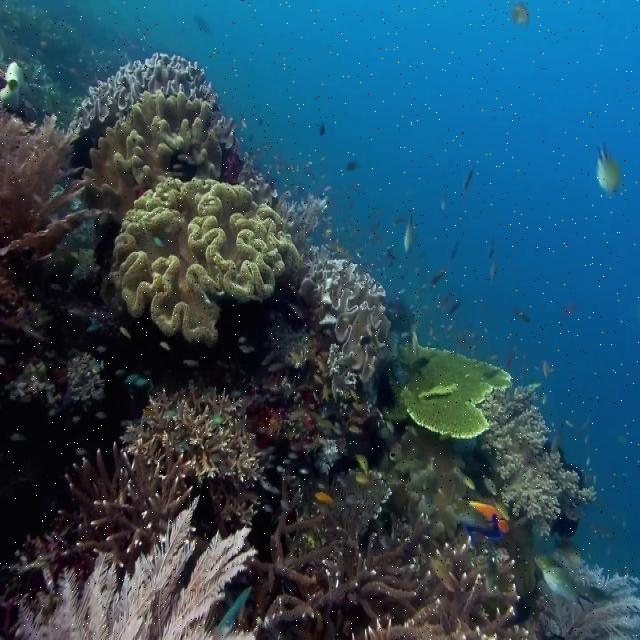aquatic plants: (17, 496, 259, 639)
reefs: (249, 471, 533, 639), (108, 177, 301, 344), (81, 89, 222, 224), (65, 436, 193, 567), (67, 52, 236, 149), (478, 383, 597, 518), (399, 342, 512, 440), (318, 259, 390, 382)
